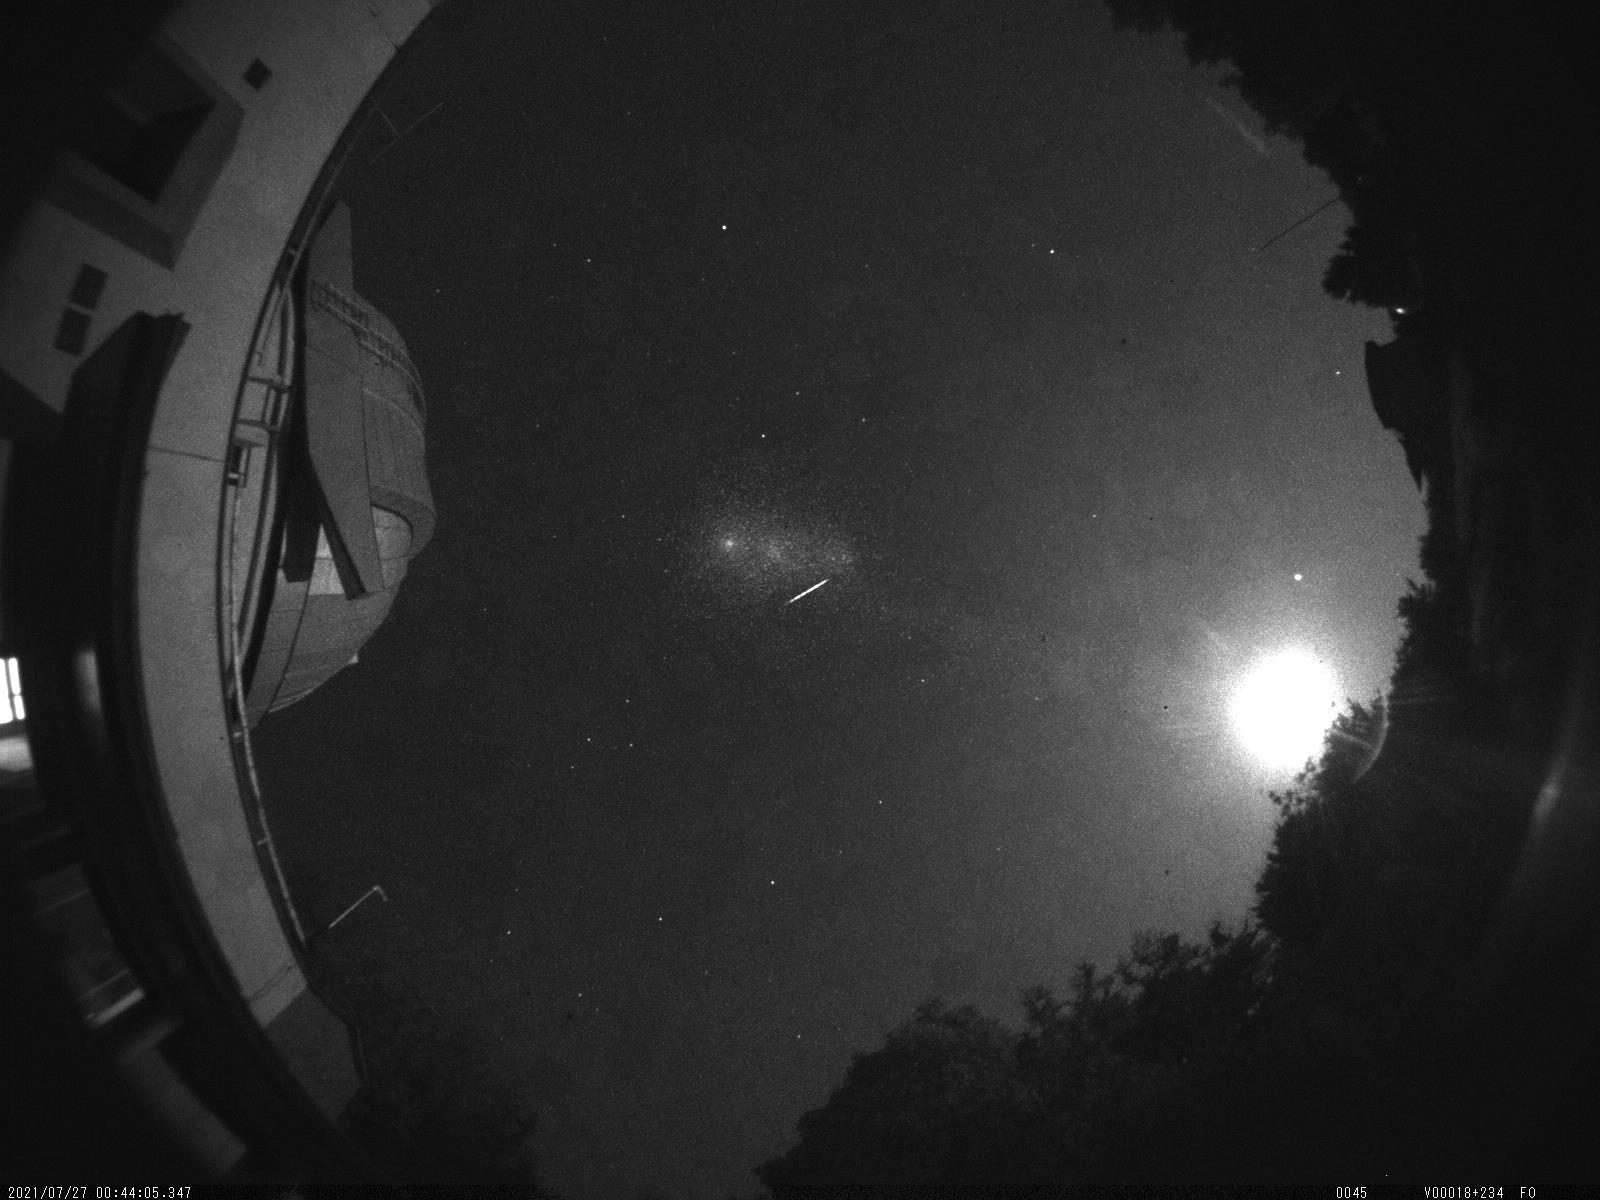Meteor: (770, 572, 837, 620)
